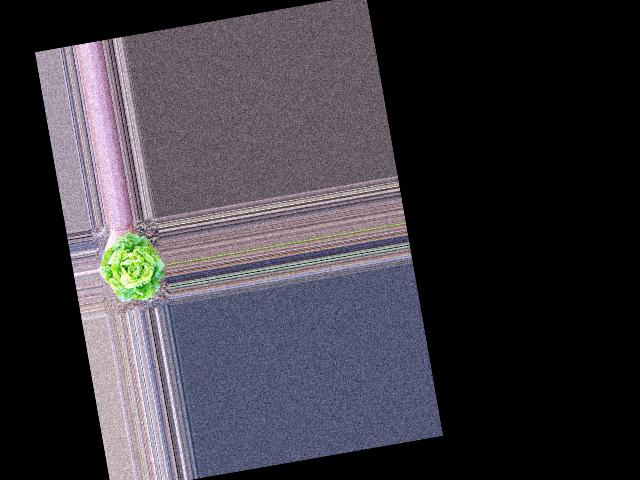lettuce: (96, 232, 168, 307)
